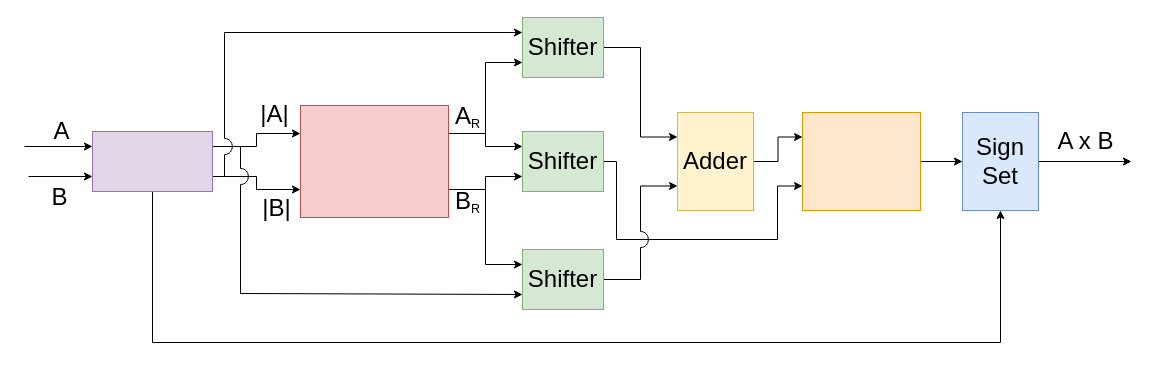
Some shapes in this 1157 by 368 pixel diagram are drawn without their labels. Each missing label, with the centre of its shape:
"Rounding" goes at (x=374, y=161).
"Sign Detector" goes at (x=152, y=161).
"Subtractor" goes at (x=861, y=161).
